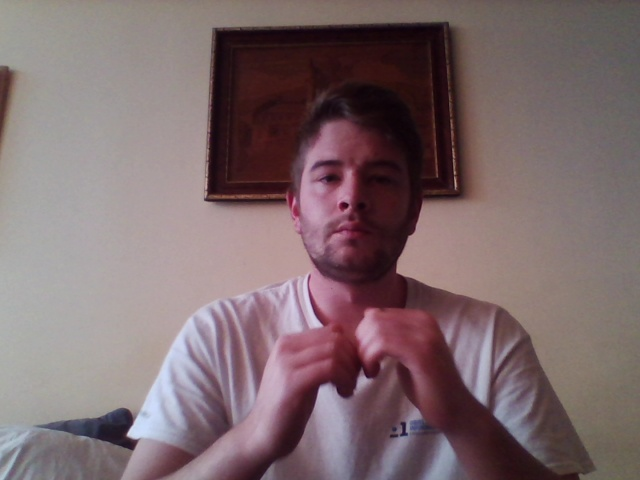kako: (247, 309, 461, 462)
